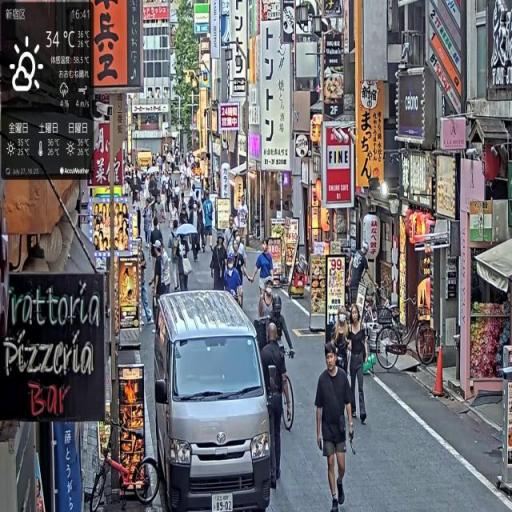person: (316, 343, 355, 512), (262, 324, 292, 490), (349, 305, 370, 425), (348, 243, 376, 304), (271, 296, 296, 359), (253, 240, 275, 297), (333, 307, 350, 374), (234, 241, 251, 307), (142, 251, 155, 326), (211, 234, 228, 291), (225, 253, 243, 305), (189, 202, 203, 263), (178, 236, 191, 292), (170, 220, 180, 292), (203, 193, 214, 252), (260, 277, 275, 319), (143, 199, 154, 248), (151, 218, 164, 259), (238, 196, 249, 241), (225, 216, 237, 253)
